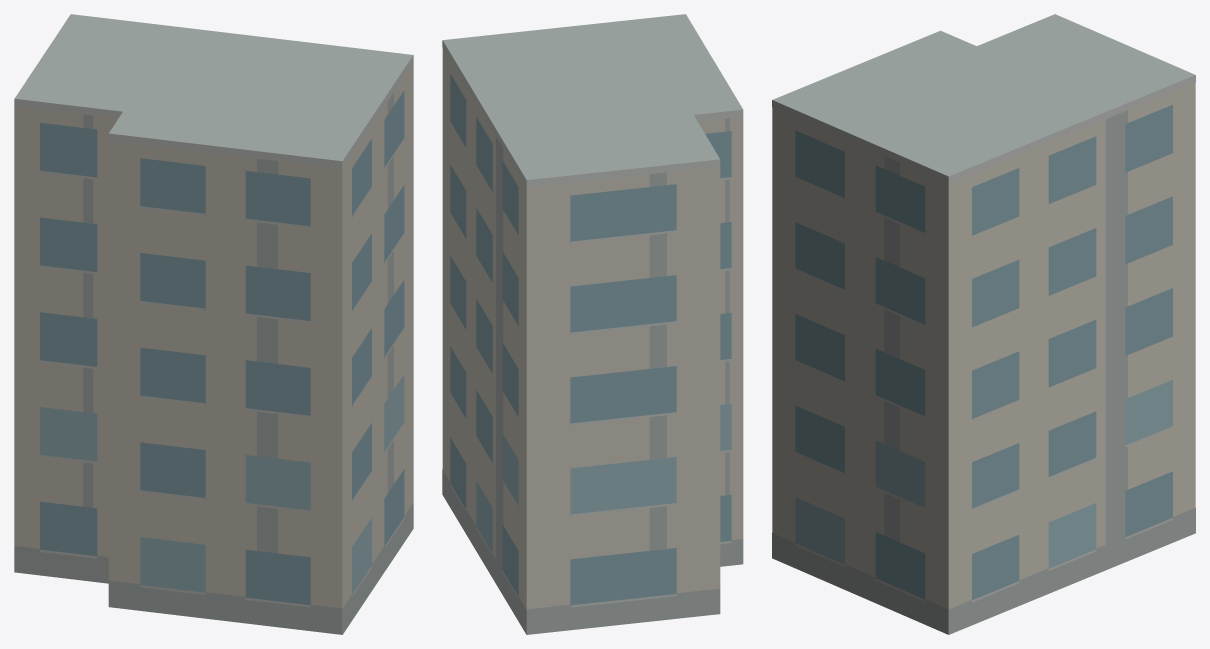
File: residential-6c639614-36e9-4da7-8da3-74dc4f986fb4.glb
3 renders of one model, left to right at view 1: azimuth 30°, elevation 25°; view 2: azimuth 150°, elevation 25°; view 3: azimuth 270°, elevation 25°, orthographic. The views are drawn at different scales.
Parts seen in each view (by area): view 1: residential-6c639614-36e9-4da7-8da3-74dc4f986fb4.tmp; view 2: residential-6c639614-36e9-4da7-8da3-74dc4f986fb4.tmp; view 3: residential-6c639614-36e9-4da7-8da3-74dc4f986fb4.tmp.
Boxes of the visible parts, x1=… form: residential-6c639614-36e9-4da7-8da3-74dc4f986fb4.tmp: x1=14, y1=14, x2=413, y2=634; residential-6c639614-36e9-4da7-8da3-74dc4f986fb4.tmp: x1=442, y1=14, x2=743, y2=634; residential-6c639614-36e9-4da7-8da3-74dc4f986fb4.tmp: x1=772, y1=14, x2=1195, y2=634.
Size of the model in its own units: 11.6 by 15.25 by 12.78.
